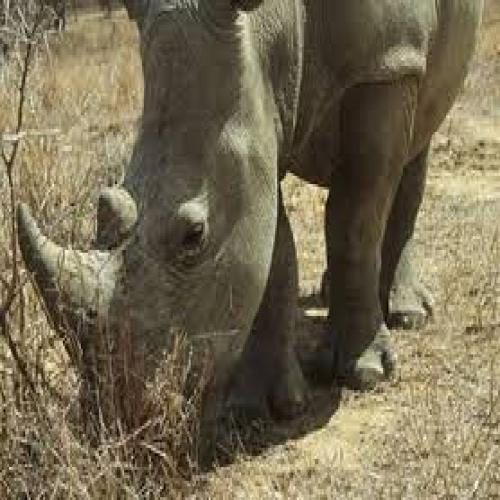rhino-endangered: (18, 0, 480, 441)
